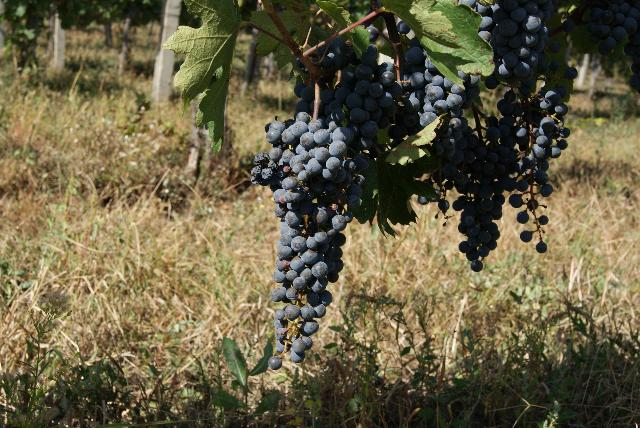grapes: (251, 111, 370, 370), (320, 55, 436, 146), (442, 135, 516, 271), (499, 86, 570, 215)
